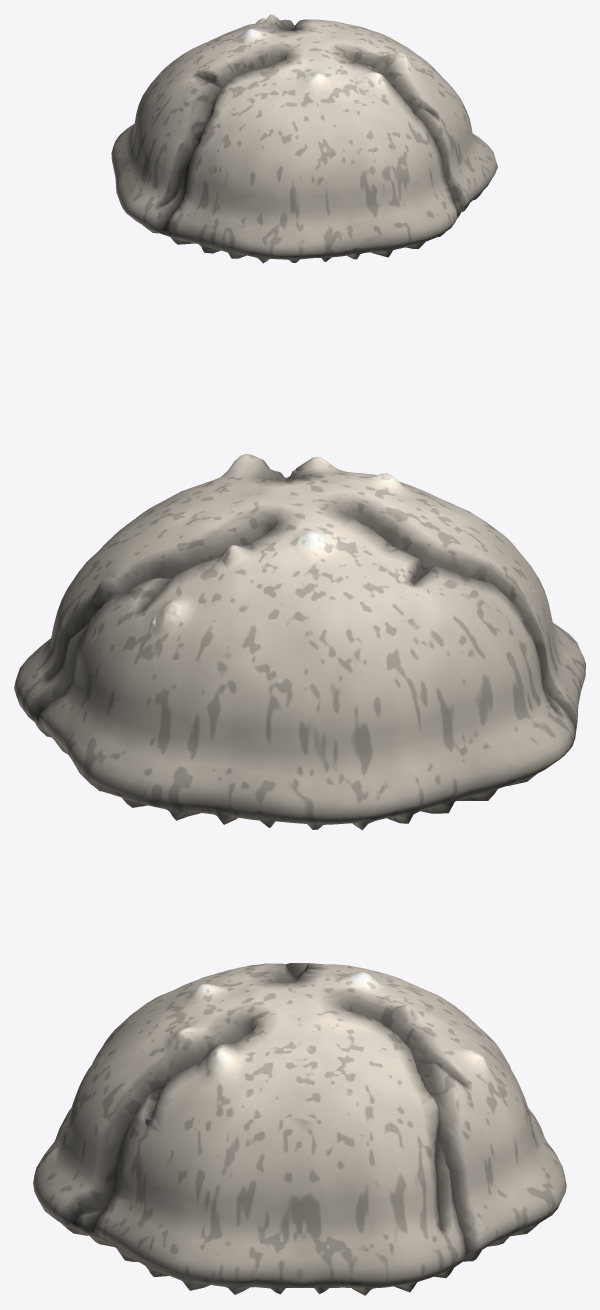
Rendered from CreepCap.glb.
3 renders of one model, top to bottom at view 1: azimuth 30°, elevation 25°; view 2: azimuth 150°, elevation 25°; view 3: azimuth 270°, elevation 25°, orthographic. The views are drawn at different scales.
Parts seen in each view (by area): view 1: CreepCap; view 2: CreepCap; view 3: CreepCap.
Part boxes in pixels (bbox=[...]): CreepCap: bbox=[111, 14, 497, 263]; CreepCap: bbox=[14, 454, 585, 830]; CreepCap: bbox=[33, 963, 566, 1295].
Bounding box in the file's own units: 2.2 × 1.11 × 2.2.
Materials: 1 (1 with a texture image).
